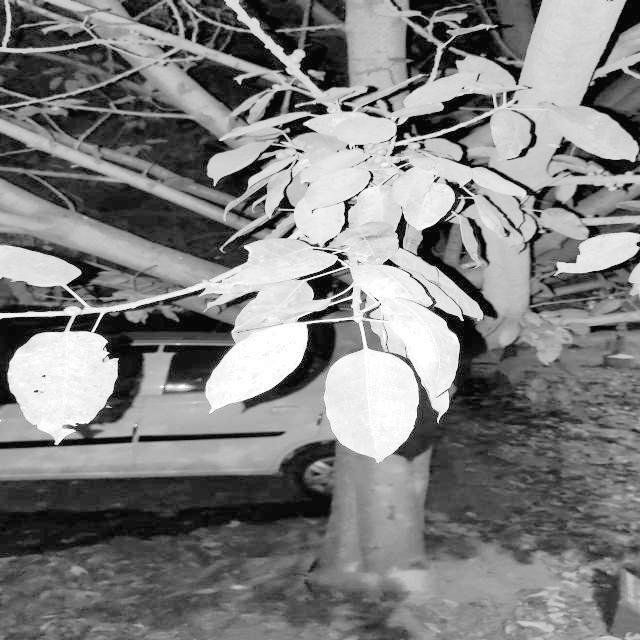Tree: (119, 1, 623, 573)
